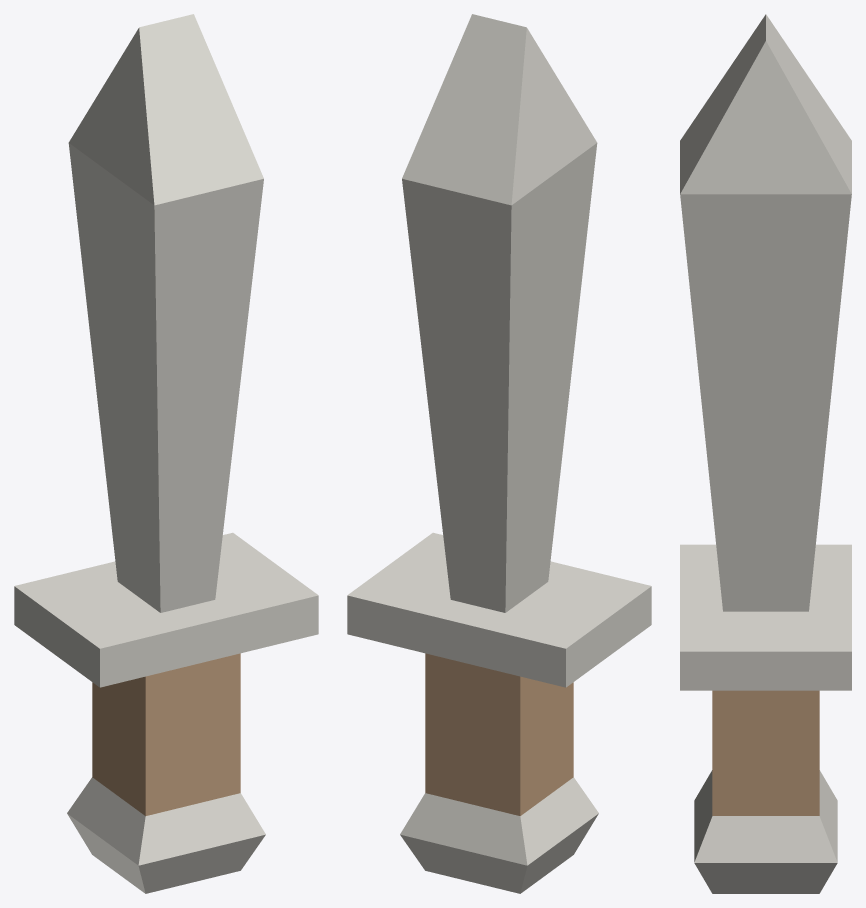
File: sword.fbx
3 views of the same model, side by side, from view 1: azimuth 30°, elevation 25°; view 2: azimuth 150°, elevation 25°; view 3: azimuth 270°, elevation 25° (orthographic).
Visible parts, largest first — view 1: sword; view 2: sword; view 3: sword.
Boxes of the visible parts, x1,y1,x2,y2 form: sword: (14, 14, 318, 893); sword: (347, 14, 651, 893); sword: (680, 14, 851, 893).
Bounding box in the file's own units: 0.9901 × 3.64 × 0.672.
